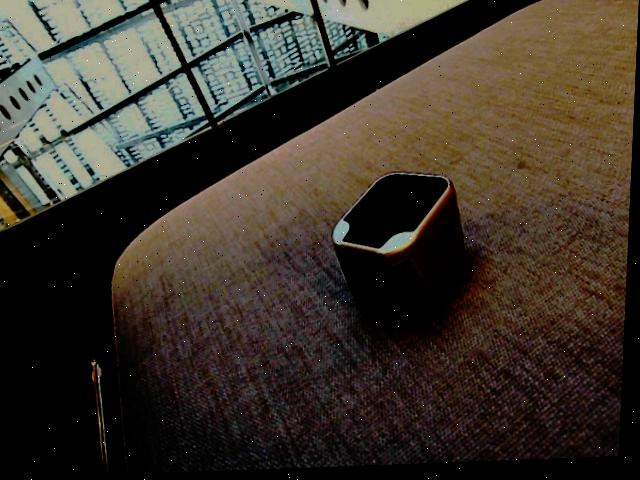adapter: (331, 172, 471, 327)
